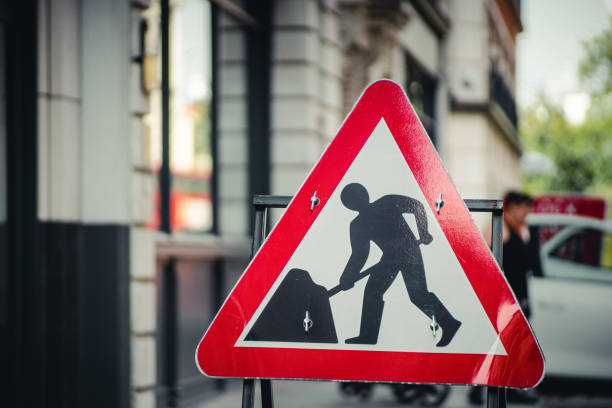yol_calismasi_levha: (190, 77, 546, 397)
